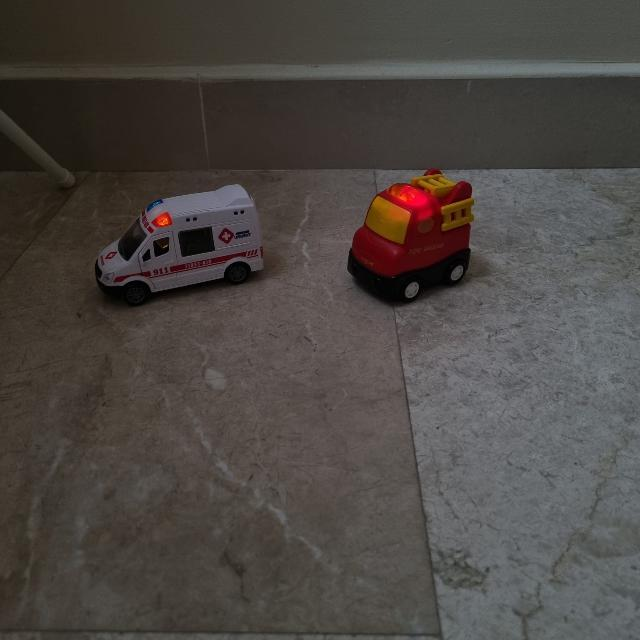emergency-vehicle: (93, 184, 265, 308)
